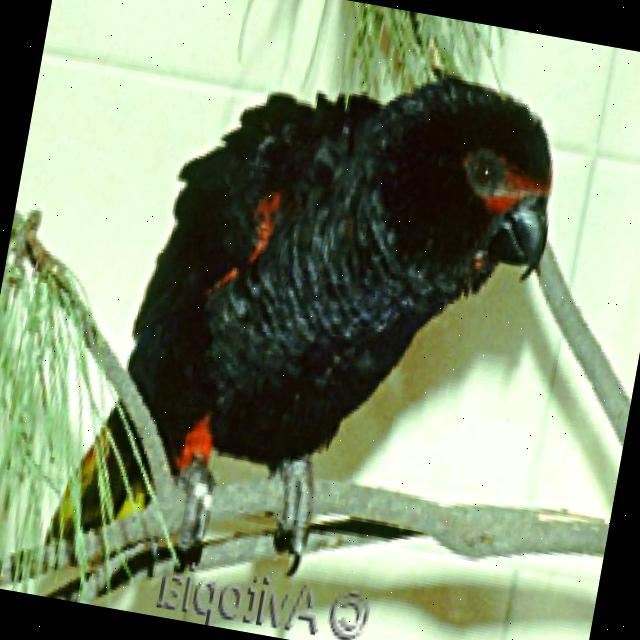Nuri Hitam: (15, 0, 594, 640)
